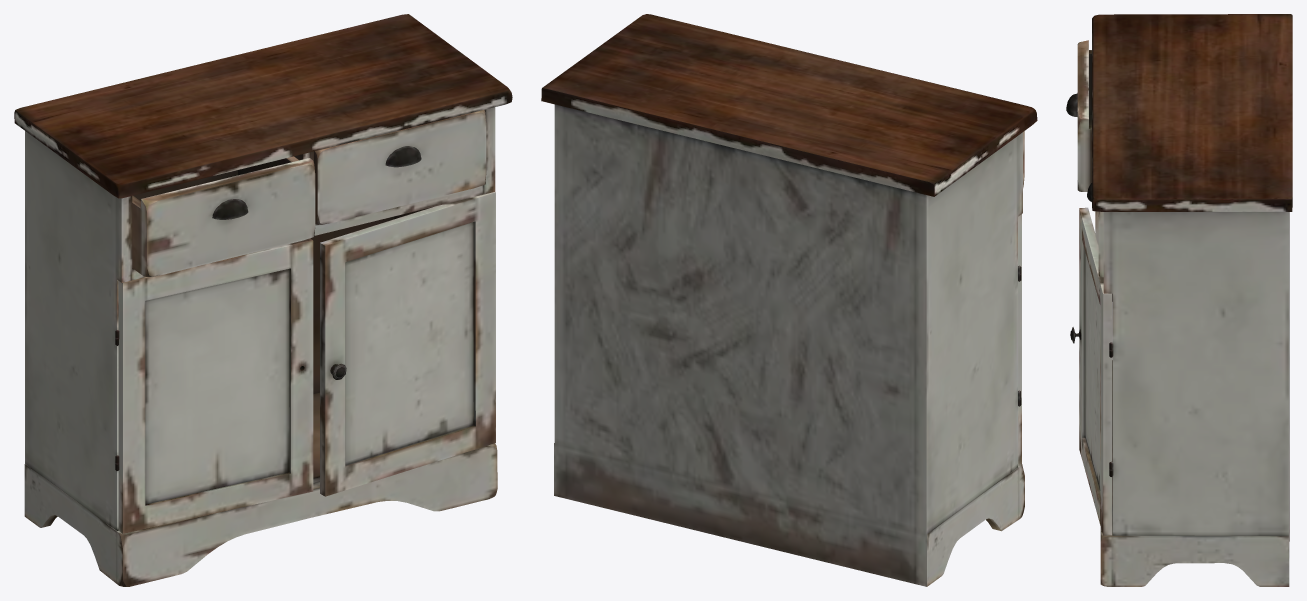
The model's file is ph_painted_wooden_cabinet.glb.
3 views of the same model, side by side, from view 1: azimuth 30°, elevation 25°; view 2: azimuth 150°, elevation 25°; view 3: azimuth 270°, elevation 25° (orthographic). The views are drawn at different scales.
Visible parts, largest first — view 1: painted_wooden_cabinet; view 2: painted_wooden_cabinet; view 3: painted_wooden_cabinet.
Boxes of the visible parts, x1,y1,x2,y2 form: painted_wooden_cabinet: (14,14,512,586); painted_wooden_cabinet: (541,14,1037,586); painted_wooden_cabinet: (1066,14,1292,586).
Size of the model in its own units: 1.19 by 1.18 by 0.616.
1 material, 1 textured.
